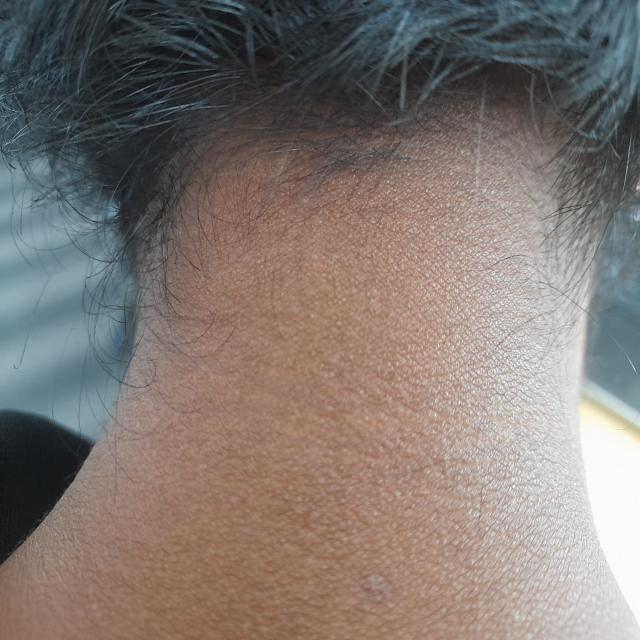Healthy: (84, 140, 620, 595)
